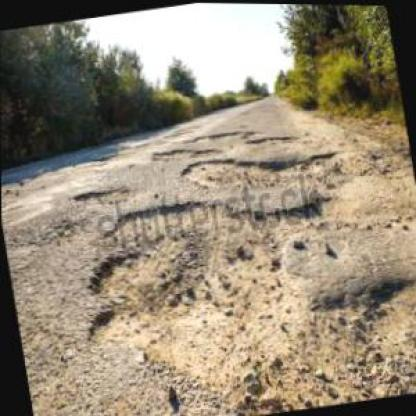pothole: (61, 179, 323, 414), (178, 133, 350, 205), (186, 122, 262, 162), (148, 136, 220, 165), (69, 179, 133, 209)
